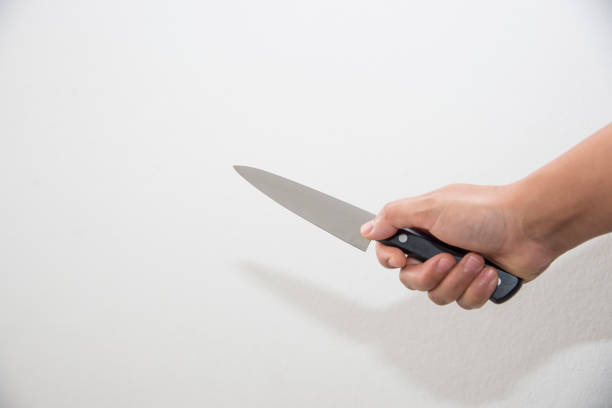knife: (230, 163, 525, 306)
